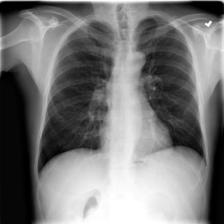normal: (35, 16, 210, 180)
